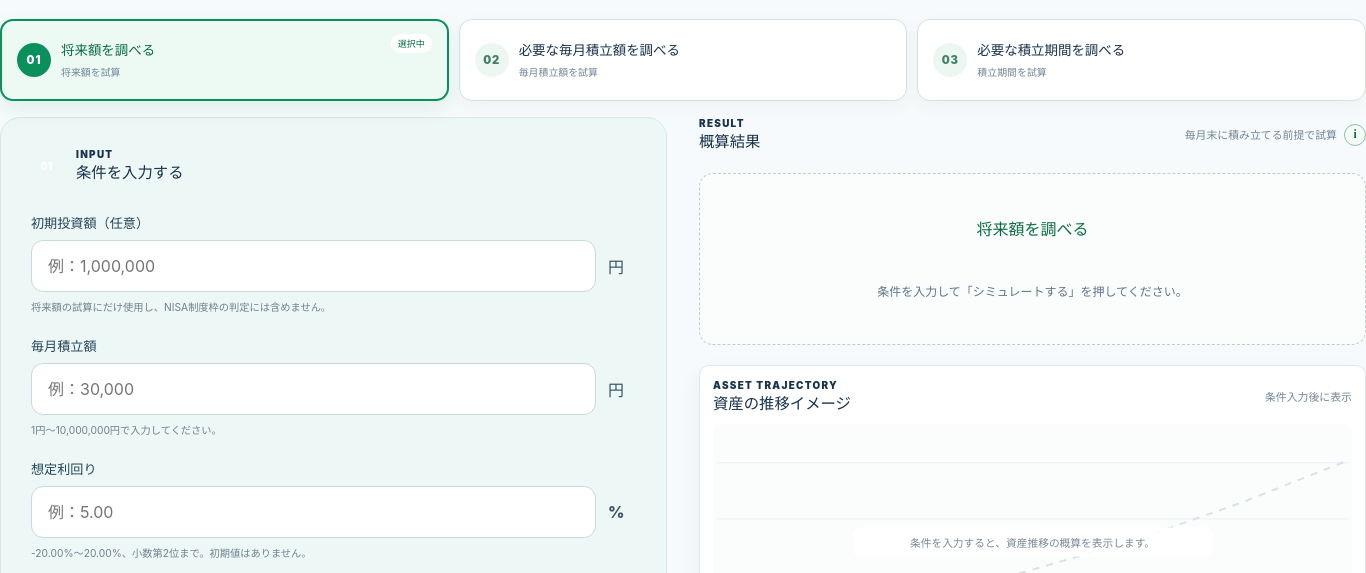
Test case: NISA planning modes › converts a one-month period without rounding it to years
Step 1. Type "1000" into the field labelled "毎月積立額" → (314, 389), box [31,363,596,415]
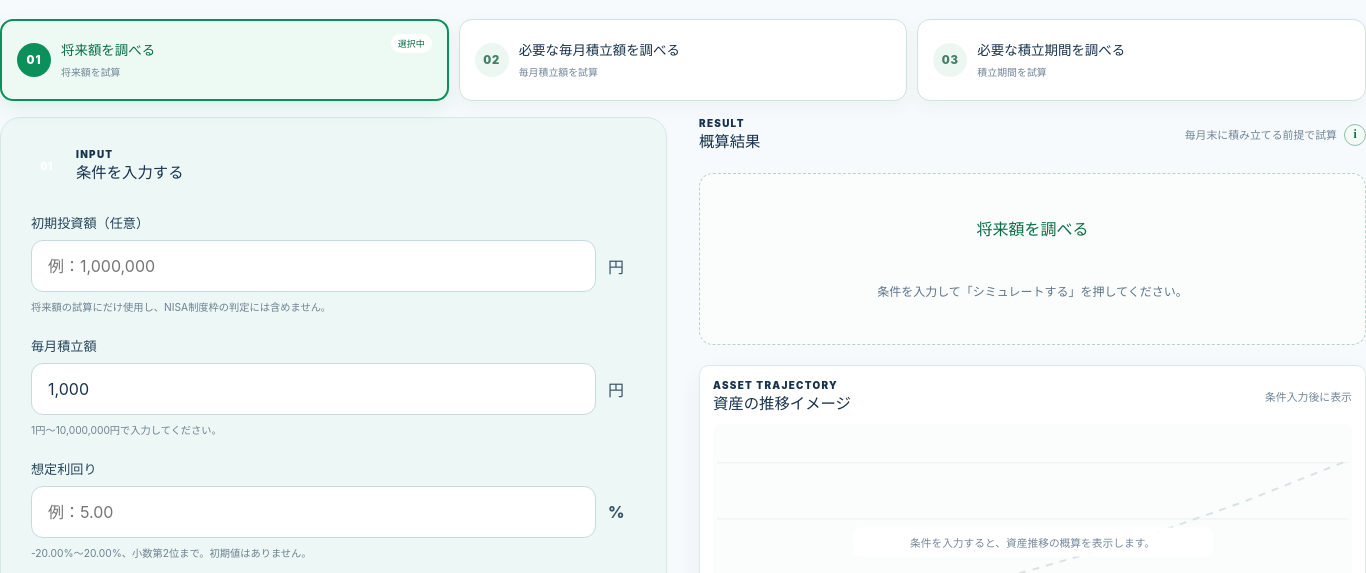
Step 2. Type "0" into the field labelled "想定利回り" → (314, 512), box [31,486,596,538]
(page scrolled)
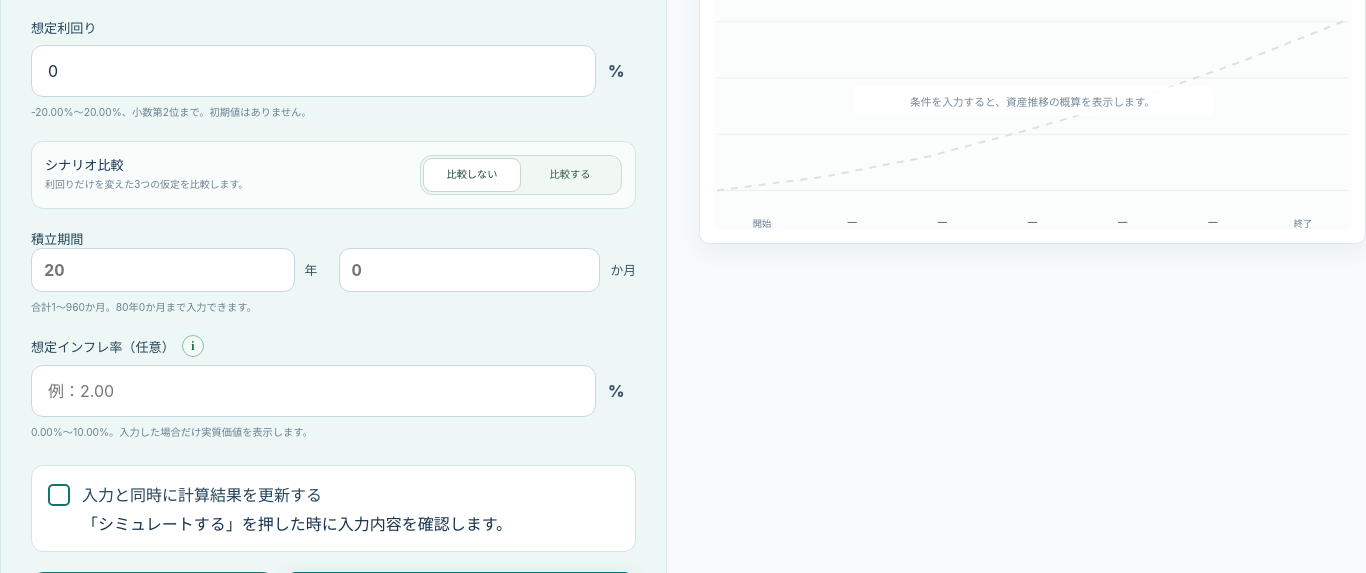
Step 3. Type "0" into the field named "積立期間（年）" → (163, 270), box [31,248,294,292]
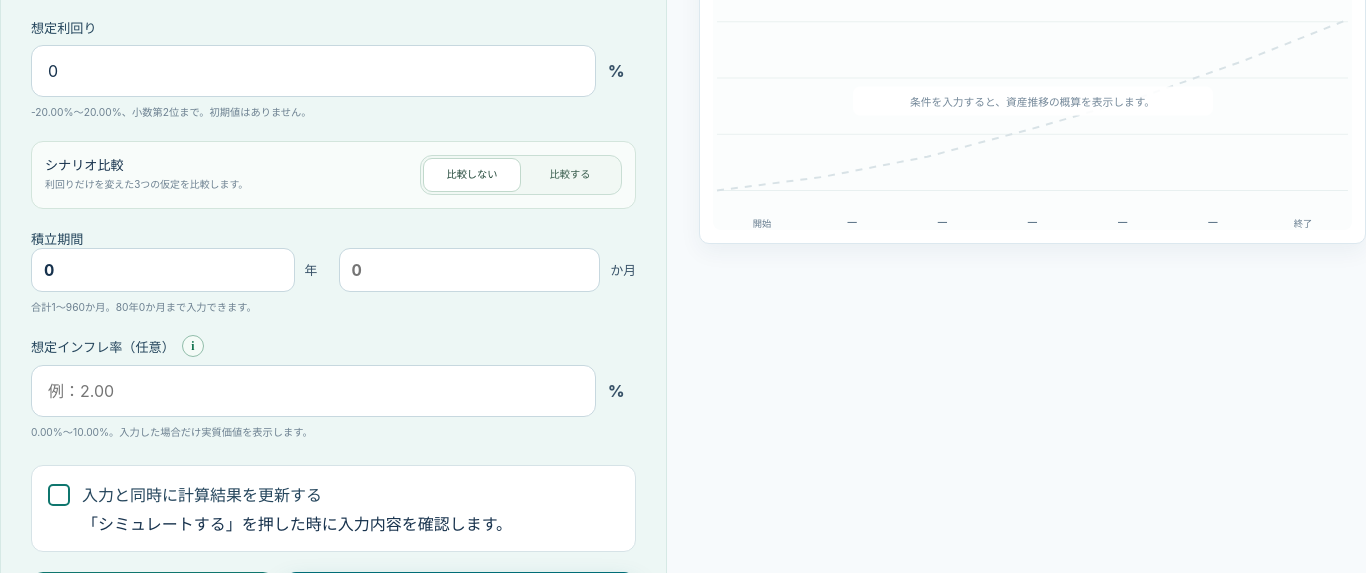
Step 4. Type "1" into the field named "積立期間（か月）" → (469, 270), box [338,248,600,292]
(page scrolled)
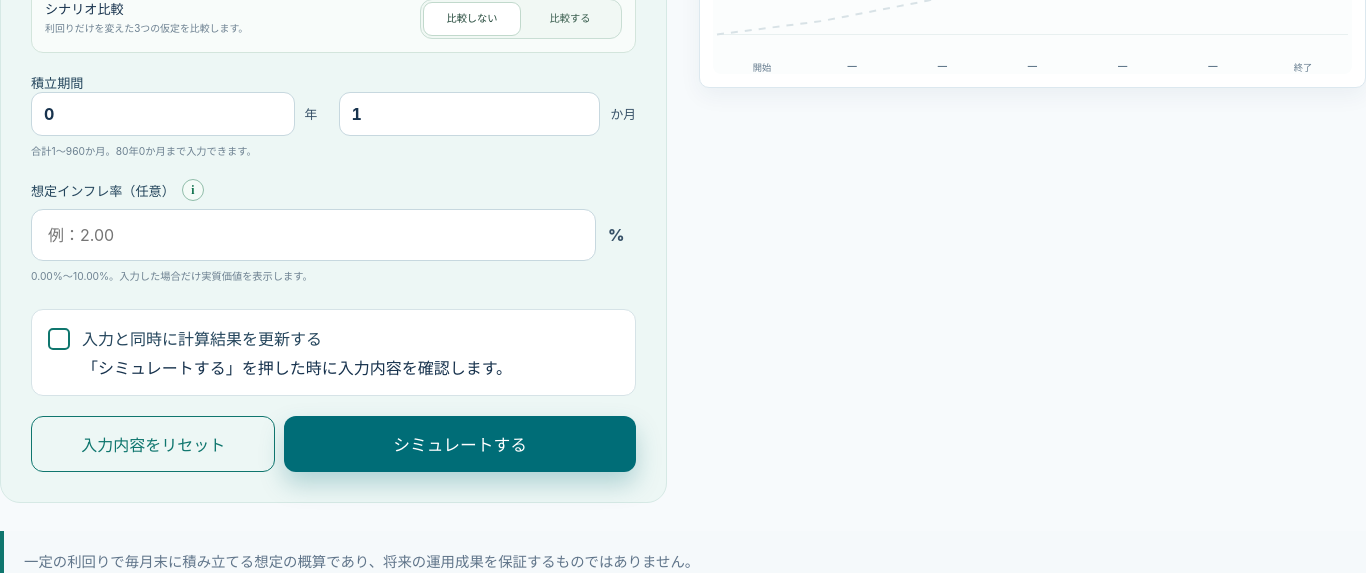
Step 5. Click the button "シミュレートする" → (460, 444), box [284,416,636,472]
(page scrolled)
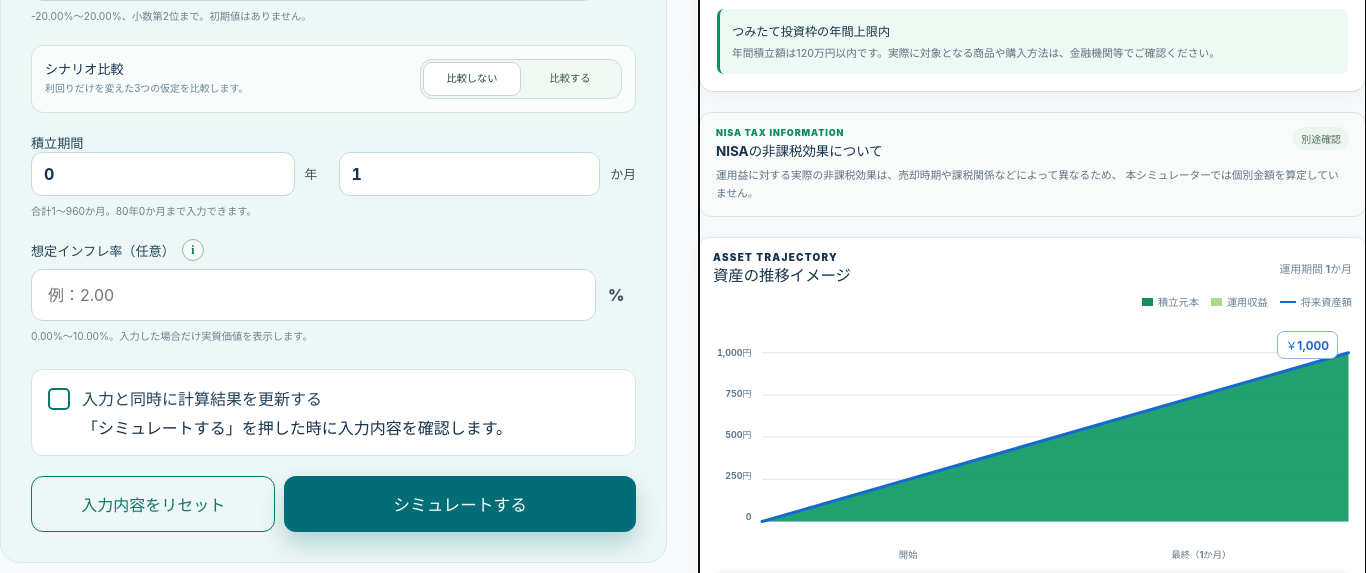
Check: the text "運用期間 1か月" is shown, box [1280,261,1352,277]
